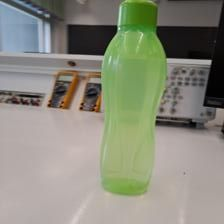bottle: (95, 0, 167, 195)
